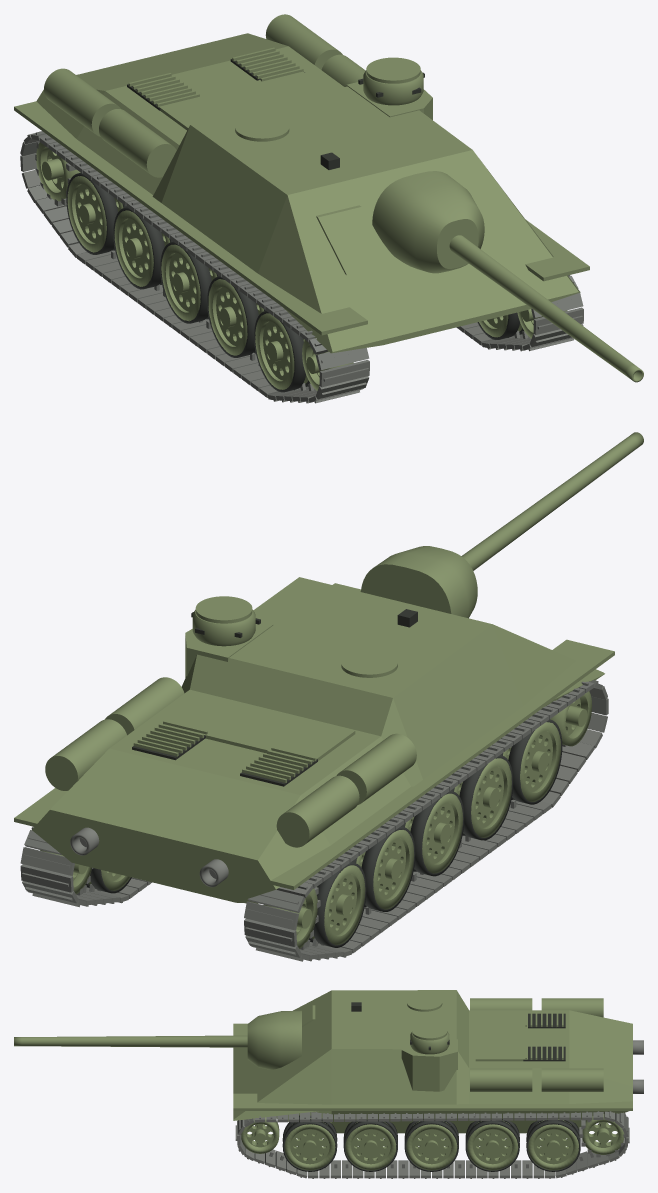
3 renders of one model, top to bottom at view 1: azimuth 30°, elevation 25°; view 2: azimuth 150°, elevation 25°; view 3: azimuth 270°, elevation 25°, orthographic. The views are drawn at different scales.
Visible parts, largest first — view 1: HullGeometry, TrackLeft, D10SCastMantlet, Fender, EngineAccessPanel, GunBarrel, Wheel_-1_4_1, Wheel_-1_3_1, DriverHatch, Wheel_-1_2_1, Wheel_-1_0_1, Wheel_-1_1_1 (+13 smaller); view 2: HullGeometry, TrackLeft, Fender, EngineAccessPanel, D10SCastMantlet, TrackRight, GunBarrel, Wheel_-1_3_1, Wheel_-1_2_1, Wheel_-1_4_1, Wheel_-1_1_1, Wheel_-1_0_1 (+11 smaller); view 3: HullGeometry, TrackRight, Fender.001, D10SCastMantlet, GunBarrel, EngineAccessPanel, Wheel_1_4_1, Wheel_1_3_1, Wheel_1_1_1, Wheel_1_2_1, Wheel_1_0_1, CommanderSponson (+16 smaller).
Part boxes in pixels (left/top/right/bottom): HullGeometry: left=36, top=33, right=580, bottom=353; TrackLeft: left=20, top=131, right=369, bottom=403; D10SCastMantlet: left=372, top=171, right=484, bottom=273; Fender: left=14, top=101, right=367, bottom=335; EngineAccessPanel: left=159, top=71, right=328, bottom=130; GunBarrel: left=449, top=235, right=643, bottom=382; Wheel_-1_4_1: left=66, top=172, right=117, bottom=254; Wheel_-1_3_1: left=113, top=207, right=164, bottom=289; DriverHatch: left=316, top=205, right=390, bottom=275; Wheel_-1_2_1: left=160, top=241, right=211, bottom=323; Wheel_-1_0_1: left=254, top=310, right=305, bottom=392; Wheel_-1_1_1: left=207, top=276, right=258, bottom=357; HullGeometry: left=32, top=577, right=604, bottom=903; TrackLeft: left=244, top=680, right=608, bottom=961; Fender: left=245, top=639, right=614, bottom=889; EngineAccessPanel: left=163, top=694, right=355, bottom=761; D10SCastMantlet: left=360, top=546, right=477, bottom=618; TrackRight: left=20, top=826, right=151, bottom=907; GunBarrel: left=461, top=432, right=643, bottom=570; Wheel_-1_3_1: left=361, top=826, right=415, bottom=911; Wheel_-1_2_1: left=410, top=790, right=464, bottom=876; Wheel_-1_4_1: left=313, top=862, right=366, bottom=947; Wheel_-1_1_1: left=459, top=755, right=513, bottom=840; Wheel_-1_0_1: left=508, top=719, right=562, bottom=804; HullGeometry: left=233, top=990, right=632, bottom=1133; TrackRight: left=235, top=1111, right=629, bottom=1178; Fender.001: left=233, top=1093, right=632, bottom=1110; D10SCastMantlet: left=247, top=1010, right=301, bottom=1069; GunBarrel: left=14, top=1035, right=247, bottom=1047; EngineAccessPanel: left=475, top=1013, right=527, bottom=1061; Wheel_1_4_1: left=526, top=1119, right=580, bottom=1171; Wheel_1_3_1: left=465, top=1119, right=519, bottom=1171; Wheel_1_1_1: left=343, top=1119, right=397, bottom=1171; Wheel_1_2_1: left=404, top=1119, right=458, bottom=1171; Wheel_1_0_1: left=282, top=1119, right=337, bottom=1171; CommanderSponson: left=401, top=1039, right=457, bottom=1091.
Size of the model in its own units: 3.07 by 2.28 by 9.62.
